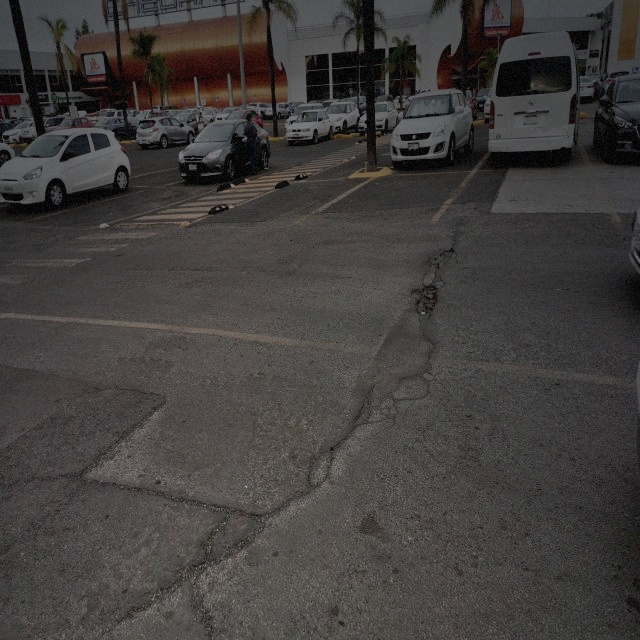pothole: (408, 281, 439, 317)
